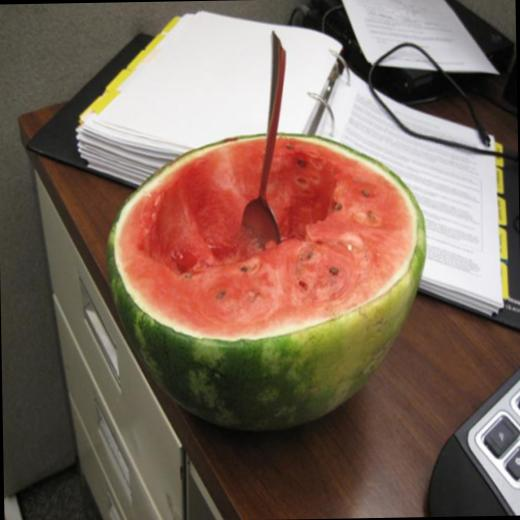Cherry: (100, 130, 429, 436)
